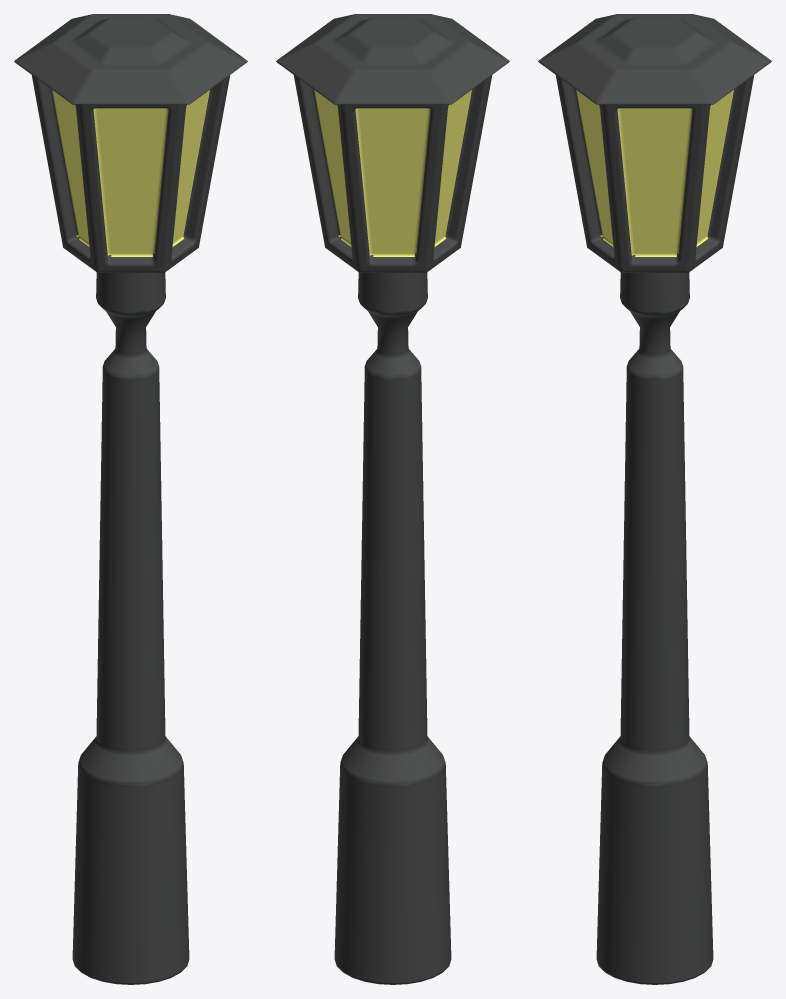
The model's file is SM_Laterne.fbx.
3 renders of one model, left to right at view 1: azimuth 30°, elevation 25°; view 2: azimuth 150°, elevation 25°; view 3: azimuth 270°, elevation 25°, orthographic.
Visible parts, largest first — view 1: Laterne.001; view 2: Laterne.001; view 3: Laterne.001.
Boxes of the visible parts, left/top/right/bottom form: Laterne.001: left=14, top=14, right=247, bottom=984; Laterne.001: left=276, top=14, right=509, bottom=984; Laterne.001: left=538, top=14, right=771, bottom=984.
Size of the model in its own units: 51.85 by 262 by 59.76.
